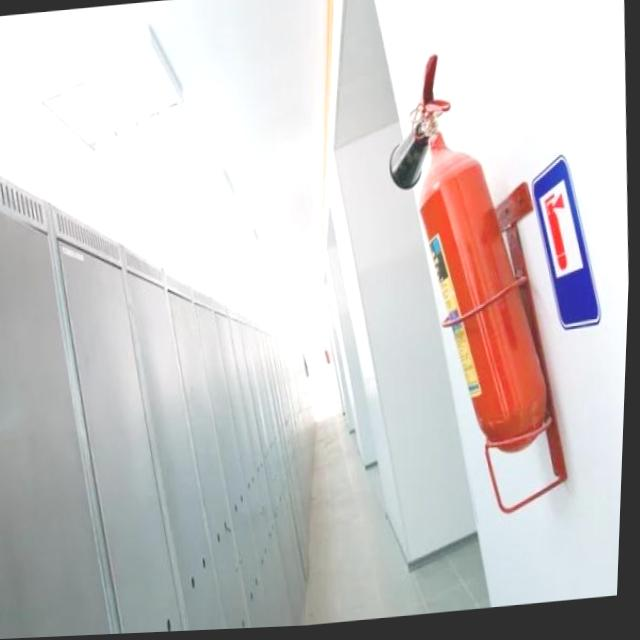FireExtinguisher: (371, 40, 570, 469)
